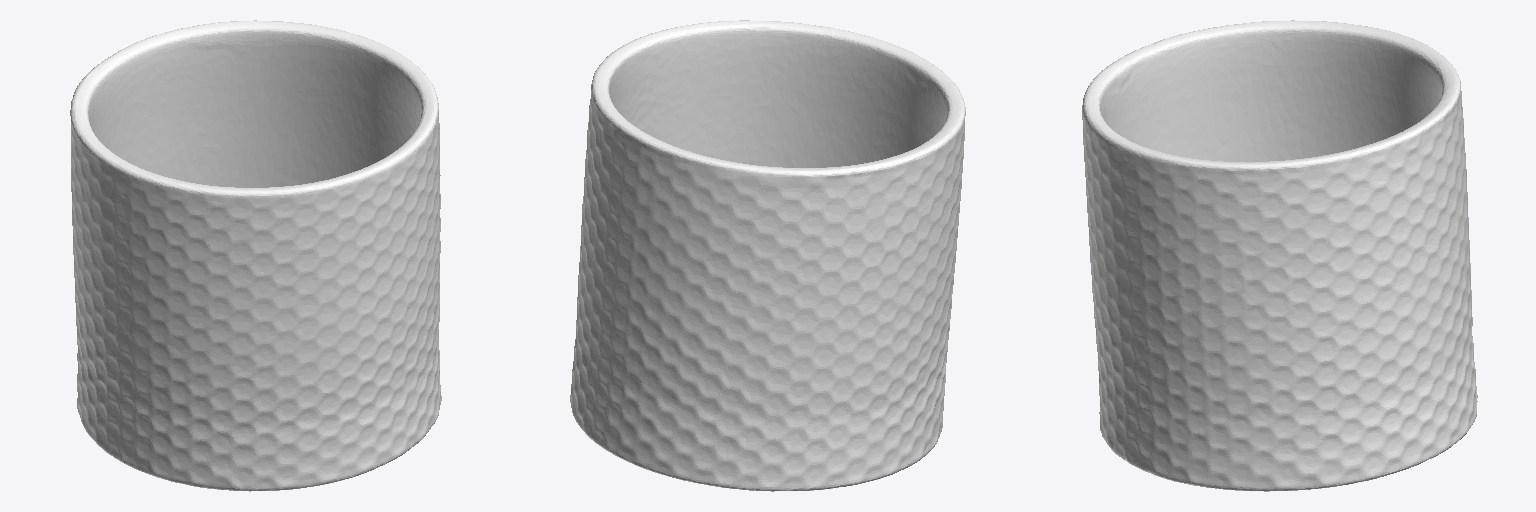
URDF robot description (model.urdf):
<robot name="model.urdf">
    <link name="baseLink">
        <contact>
            <lateral_friction value="0.4"/>
            <rolling_friction value="1"/>
            <spinning_friction value="1"/>
            <contact_cfm value="0.0"/>
            <contact_erp value="1.0"/>
        </contact>
        <inertial>
            <origin rpy="0.05 -0.06 0" xyz="0.003 0.002 0.0"/>
            <mass value="1.5"/>
            <inertia ixx="1e-3" ixy="0" ixz="0" iyy="1e-3" iyz="0" izz="1e-3"/>
        </inertial>
        <visual>
            <geometry>
                <mesh filename="nontextured.stl" scale="1 1 1"/>
            </geometry>
            <material name="white">
                <color rgba="1 1 1 1"/>
            </material>
        </visual>
        <collision>
            <geometry>
                <mesh filename="nontextured.stl" scale="1 1 1"/>
            </geometry>
        </collision>
    </link>
</robot>

--- What the picture shows (computed from the rendered views, not written in the file) ---
3 views of the same robot in one strip: view 1: azimuth 30°, elevation 25°; view 2: azimuth 150°, elevation 25°; view 3: azimuth 270°, elevation 25° (orthographic).
Model model.urdf with 1 links and 0 joints (none), rooted at baseLink, posed all joints at 0.
Visible links, largest first — view 1: baseLink; view 2: baseLink; view 3: baseLink.
Boxes of the visible links, x1,y1,x2,y2 form: baseLink: (70, 20, 441, 491); baseLink: (570, 20, 965, 491); baseLink: (1082, 20, 1477, 491).
Bounding box of the posed robot: 0.1295 × 0.1295 × 0.1246 m (x, y, z).
Meshes: 1 distinct files referenced, 1 mesh visuals loaded (1 binary STL).